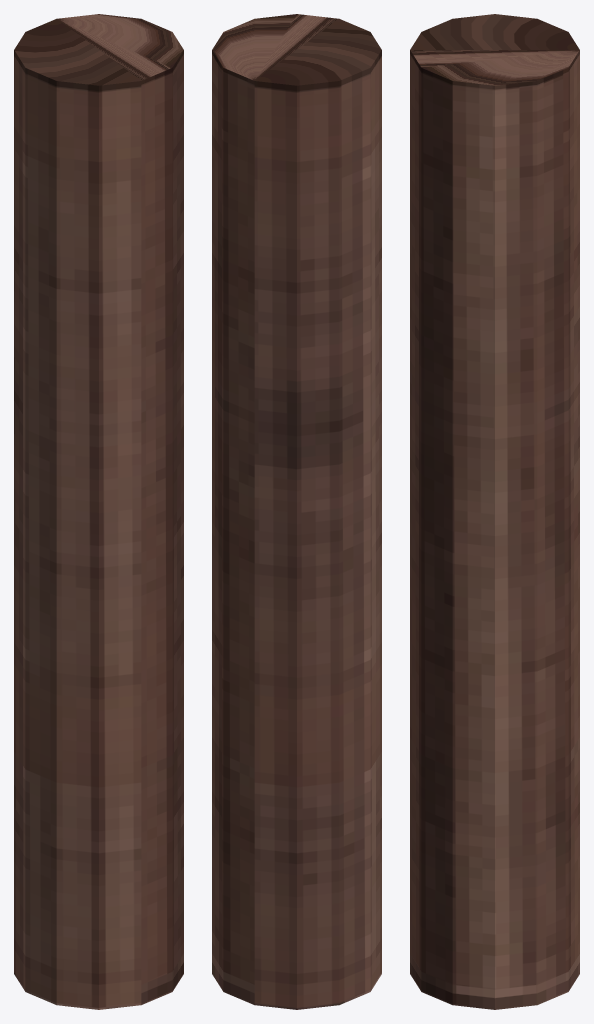
The model's file is CharlieChurchCollumn.obj.
3 views of the same model, side by side, from view 1: azimuth 30°, elevation 25°; view 2: azimuth 150°, elevation 25°; view 3: azimuth 270°, elevation 25° (orthographic).
Parts seen in each view (by area): view 1: Cylinder; view 2: Cylinder; view 3: Cylinder.
Boxes of the visible parts, x1,y1,x2,y2 form: Cylinder: [14, 14, 183, 1009]; Cylinder: [212, 14, 381, 1009]; Cylinder: [410, 14, 579, 1009].
Bounding box in the file's own units: 2 × 12.01 × 2.
1 material, 1 textured.
